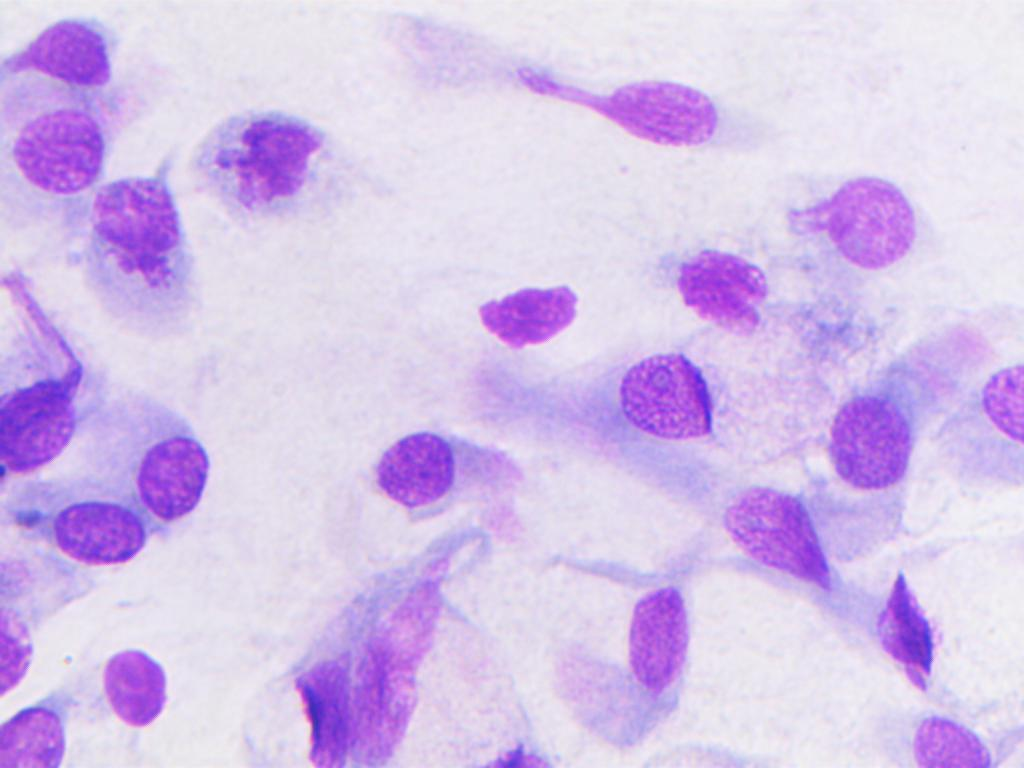artifact: (470, 264, 587, 365)
epithelial: (546, 581, 704, 744), (188, 90, 356, 236), (364, 420, 549, 534), (84, 174, 194, 354), (774, 159, 941, 270), (684, 475, 837, 596), (634, 236, 774, 340), (570, 67, 736, 149), (0, 103, 120, 204), (0, 12, 137, 94), (76, 620, 172, 732), (131, 423, 228, 532), (0, 369, 91, 484), (825, 388, 915, 490), (902, 698, 1022, 768), (957, 342, 1024, 461), (0, 691, 92, 768), (47, 499, 142, 566), (0, 592, 40, 691)
goblet_cell: (234, 556, 474, 768), (610, 336, 821, 462), (857, 539, 1022, 682)
